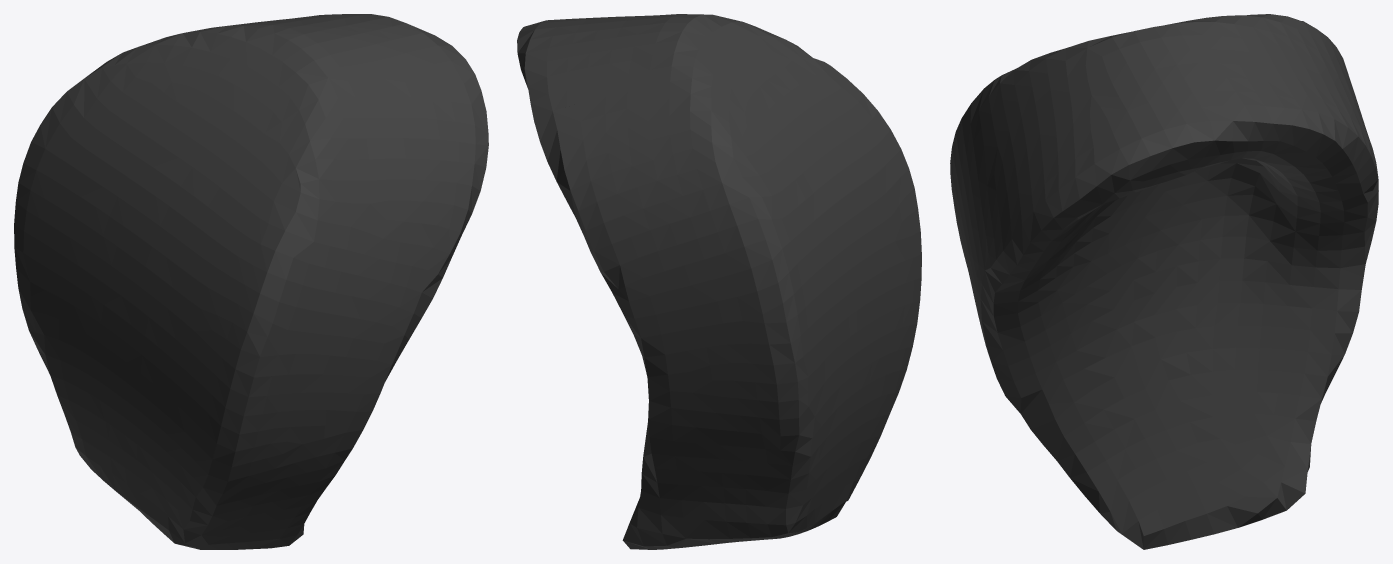
The model's file is canine_cardiac_fossa_ovalis.glb.
3 renders of one model, left to right at view 1: azimuth 30°, elevation 25°; view 2: azimuth 150°, elevation 25°; view 3: azimuth 270°, elevation 25°, orthographic. The views are drawn at different scales.
Visible parts, largest first — view 1: canine_cardiac_fossa_ovalis; view 2: canine_cardiac_fossa_ovalis; view 3: canine_cardiac_fossa_ovalis.
Boxes of the visible parts, box(x1,y1,x2,y2) form: canine_cardiac_fossa_ovalis: box(14, 14, 488, 549); canine_cardiac_fossa_ovalis: box(517, 14, 921, 549); canine_cardiac_fossa_ovalis: box(950, 14, 1378, 549).
Bounding box in the file's own units: 0.00931 × 0.0125 × 0.00924.
1 material, 1 textured.
